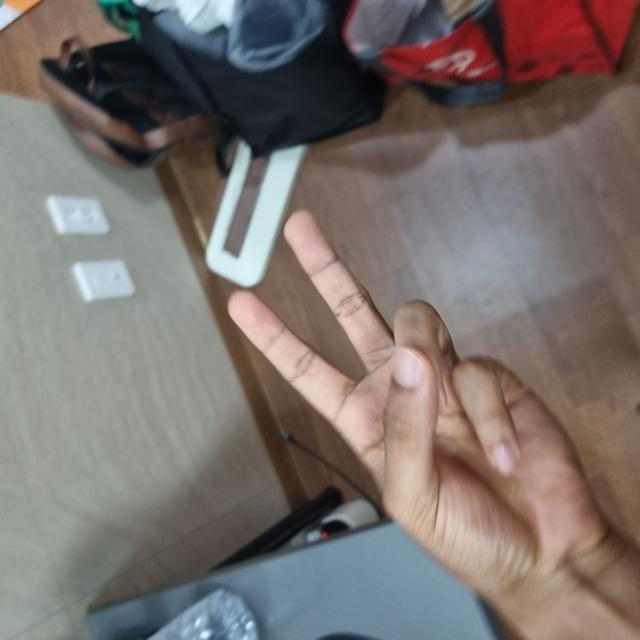Scissors: (36, 223, 420, 604)
